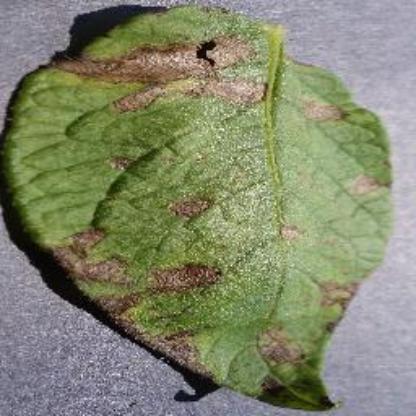Early-Blight: (0, 5, 396, 412)
